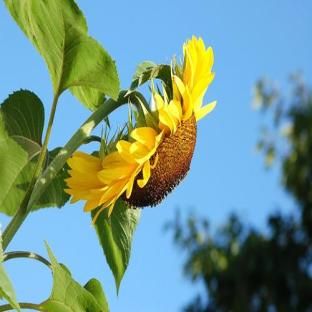sunflower: (0, 0, 215, 292)
